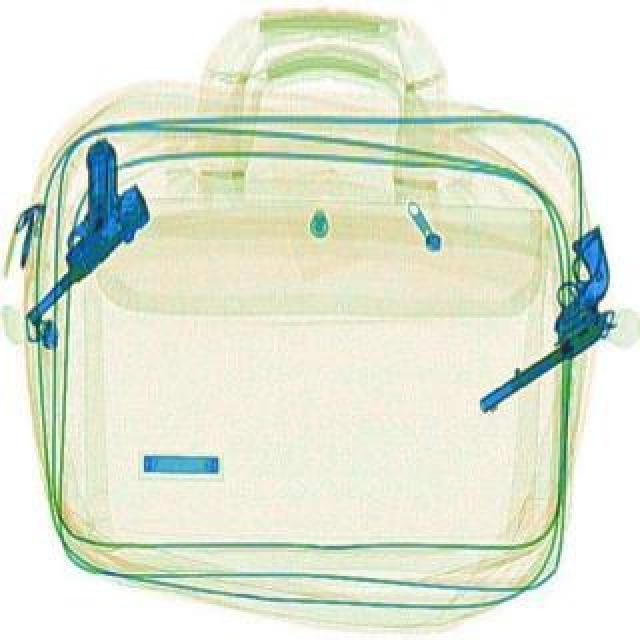gun: (430, 240, 638, 410), (0, 134, 172, 292)
